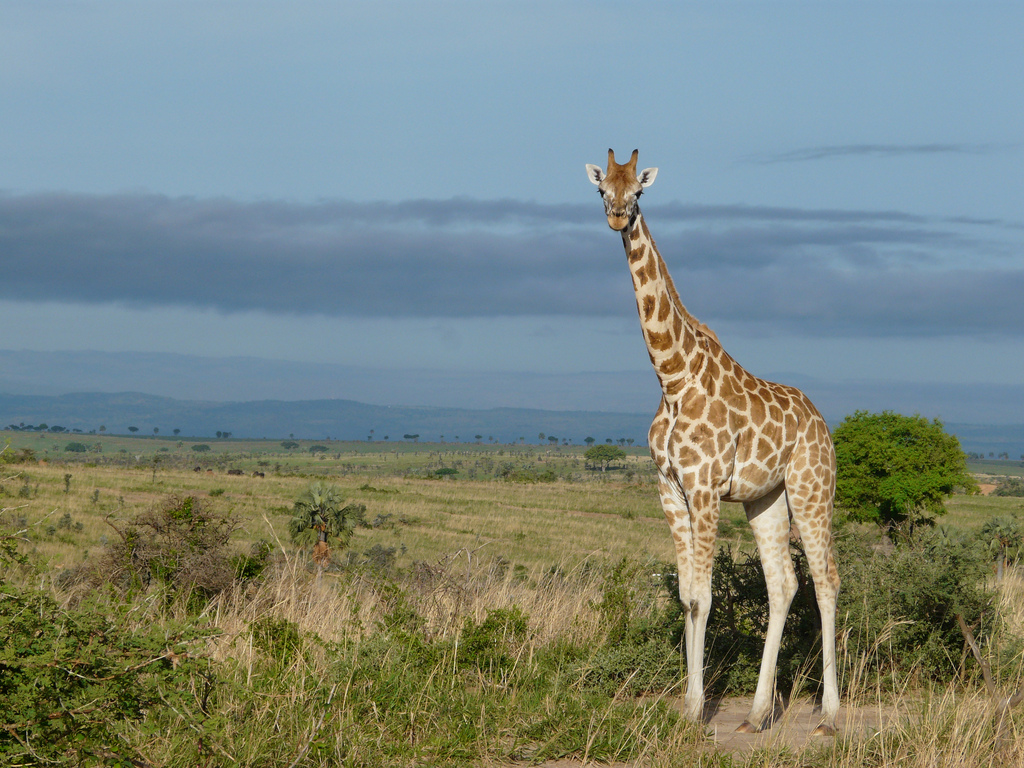giraffe: (566, 127, 883, 768)
